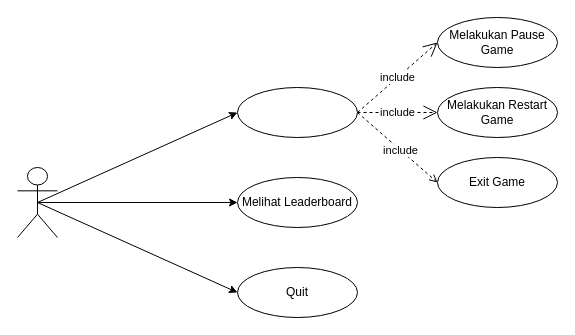
Image size: 575x335. Some labels were removed from this diagram. Each missing label, with the centre of its shape:
Memainkan Game: (x=297, y=112)
Player: (x=37, y=202)
